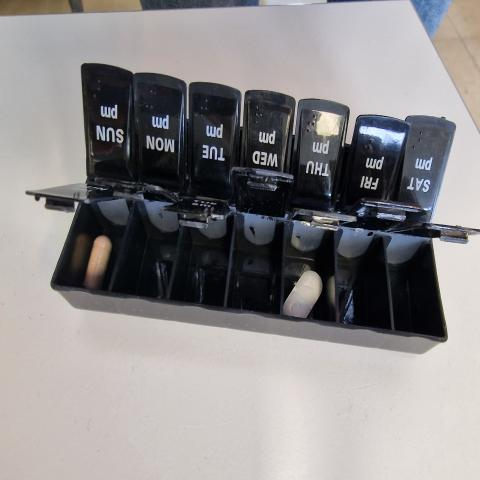Open: (340, 198, 426, 332), (27, 193, 139, 292), (393, 223, 478, 337), (226, 169, 293, 312), (104, 189, 179, 304), (284, 211, 355, 322), (170, 209, 234, 307), (340, 115, 360, 212), (240, 92, 247, 169), (183, 86, 188, 184)
